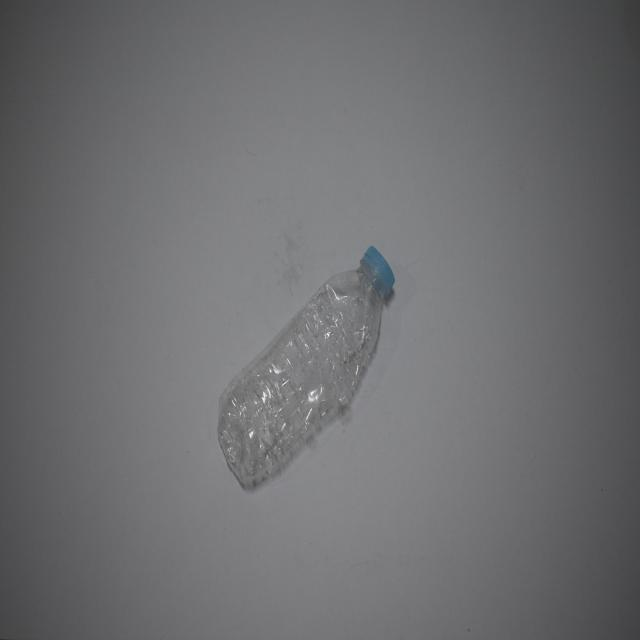empty: (217, 246, 394, 488)
